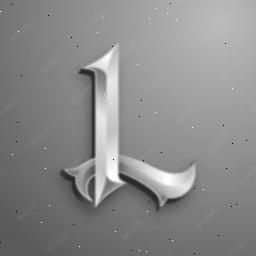l: (56, 38, 200, 216)
